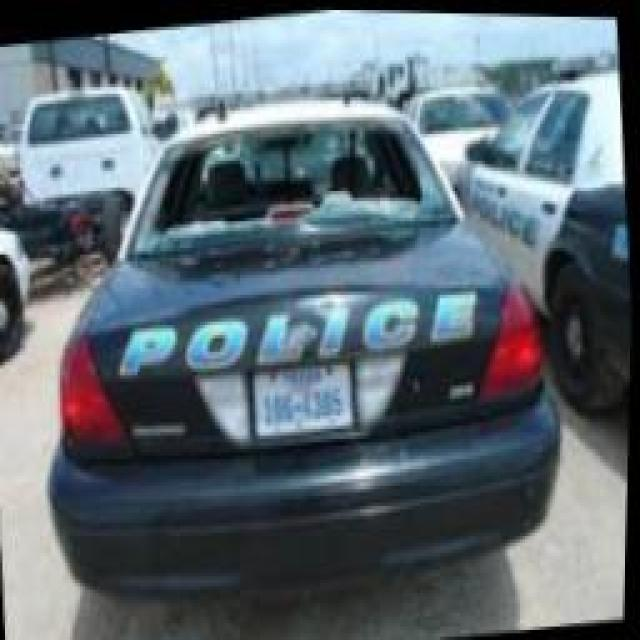replaceable: (144, 113, 470, 236)
